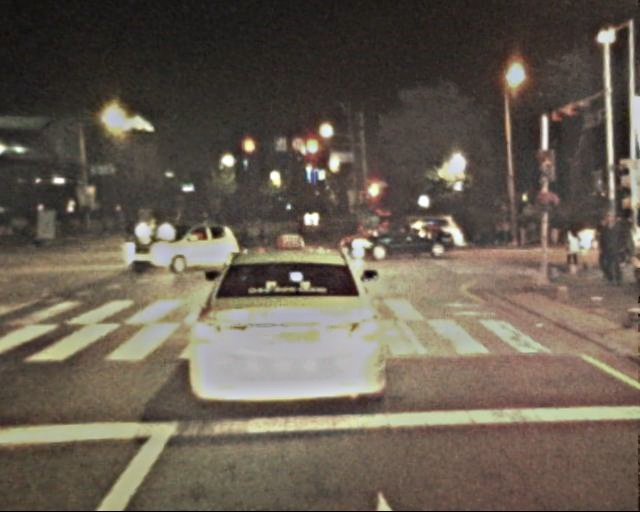person: (607, 215, 637, 287), (591, 216, 617, 280), (560, 223, 581, 274), (289, 212, 305, 252), (496, 217, 514, 251), (125, 214, 139, 251), (235, 214, 249, 248), (253, 216, 267, 249)
